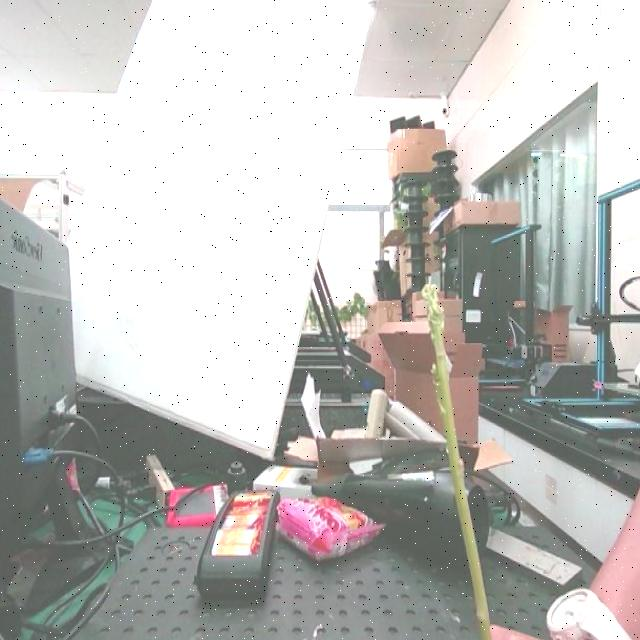aspargus: (429, 284, 494, 640)
